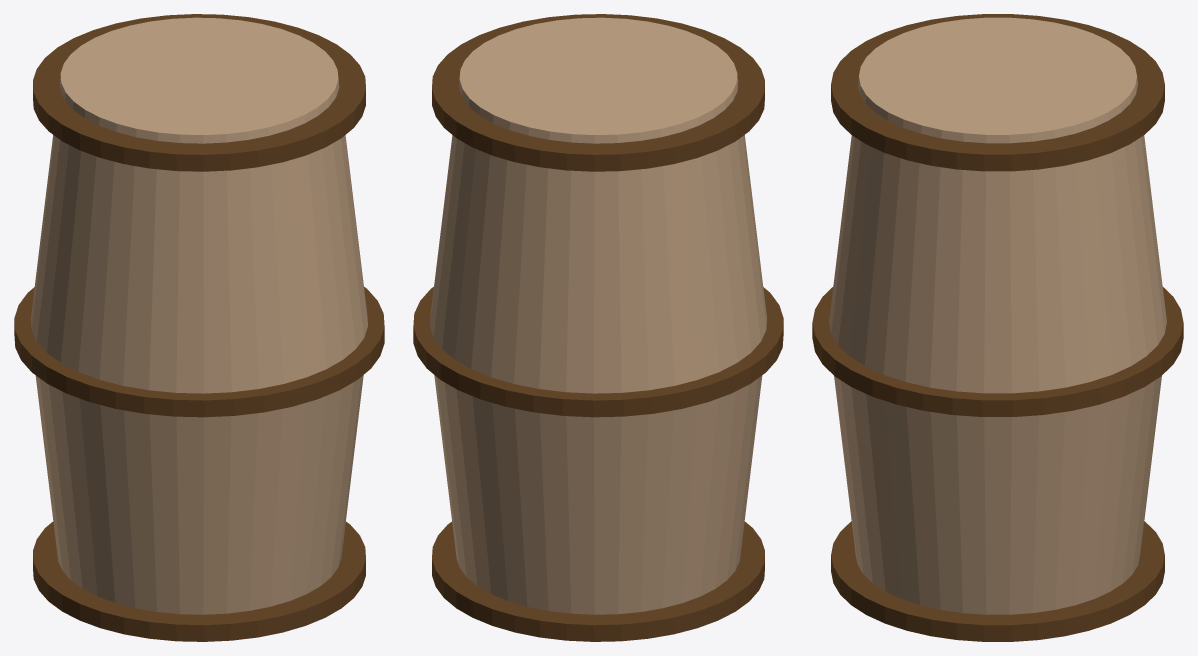
Rendered from Ton_2.fbx.
3 views of the same model, side by side, from view 1: azimuth 30°, elevation 25°; view 2: azimuth 150°, elevation 25°; view 3: azimuth 270°, elevation 25° (orthographic).
Parts seen in each view (by area): view 1: Cylinder, Cylinder.001; view 2: Cylinder, Cylinder.001; view 3: Cylinder, Cylinder.001.
Boxes of the visible parts, x1,y1,x2,y2 form: Cylinder: [31, 17, 367, 614]; Cylinder.001: [14, 14, 384, 641]; Cylinder: [430, 17, 766, 614]; Cylinder.001: [413, 14, 783, 641]; Cylinder: [829, 17, 1166, 614]; Cylinder.001: [812, 14, 1183, 641].
Size of the model in its own units: 399 by 600 by 400.
2 materials, 2 textured.
